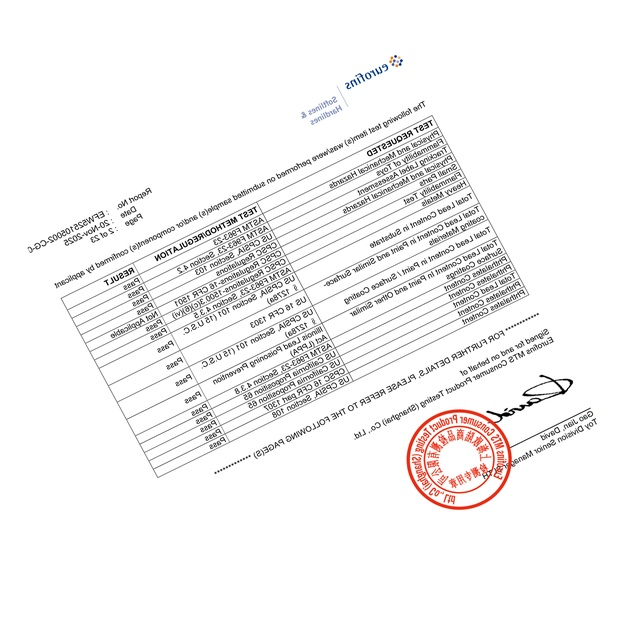eurofins: (342, 52, 407, 92)
